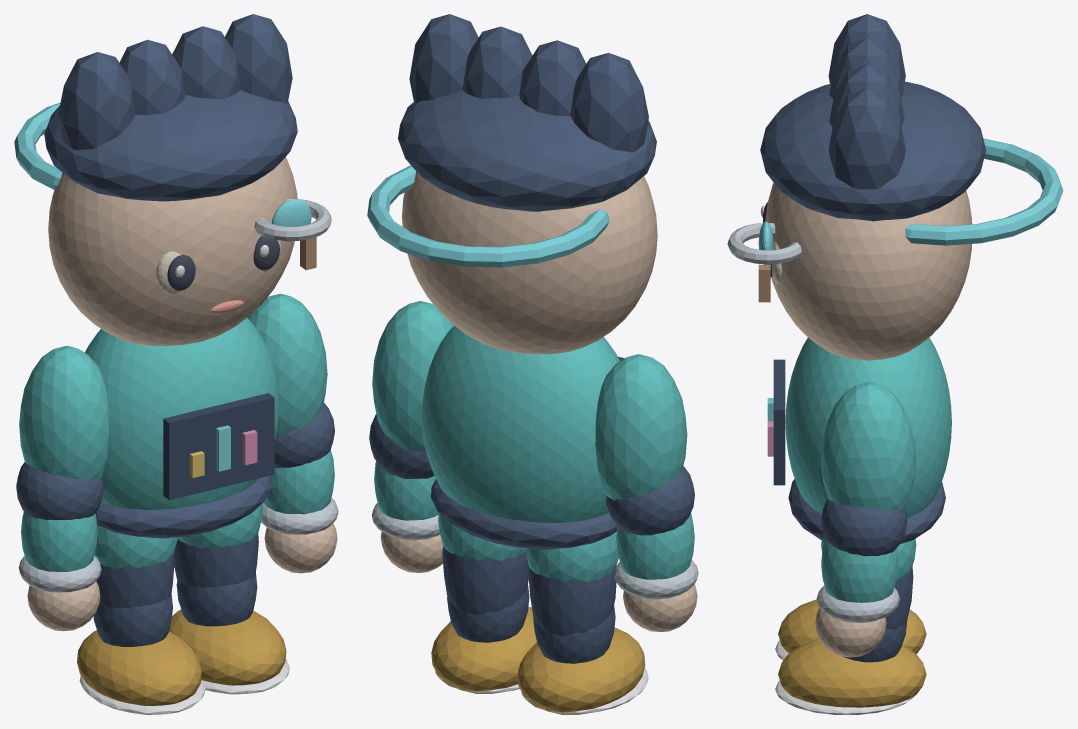
The model's file is avatar_ai_trend_scout_v3.glb.
3 renders of one model, left to right at view 1: azimuth 30°, elevation 25°; view 2: azimuth 150°, elevation 25°; view 3: azimuth 270°, elevation 25°, orthographic. The views are drawn at different scales.
Parts seen in each view (by area): view 1: head_face, body_core, hair_cap, L_sleeve_upper, field_tablet, L_shoe, R_sleeve_upper, R_shoe, hair_spike_0, waist_band, hair_spike_3, L_sleeve_lower (+26 smaller); view 2: body_core, head_face, hair_cap, L_sleeve_upper, R_sleeve_upper, radar_disk, L_shoe, hair_spike_0, R_shoe, waist_band, L_leg, hair_spike_3 (+16 smaller); view 3: head_face, hair_cap, body_core, R_sleeve_upper, R_shoe, hair_spike_3, radar_disk, R_elbow, R_sleeve_lower, R_hand, L_shoe, waist_band (+10 smaller).
Part boxes in pixels (x1=…): head_face: x1=48, y1=157, x2=297, y2=345; body_core: x1=85, y1=318, x2=278, y2=509; hair_cap: x1=44, y1=90, x2=297, y2=201; L_sleeve_upper: x1=19, y1=346, x2=108, y2=479; field_tablet: x1=163, y1=393, x2=274, y2=500; L_shoe: x1=77, y1=630, x2=201, y2=705; R_sleeve_upper: x1=247, y1=293, x2=327, y2=435; R_shoe: x1=169, y1=609, x2=286, y2=685; hair_spike_0: x1=58, y1=52, x2=134, y2=150; waist_band: x1=95, y1=476, x2=271, y2=538; hair_spike_3: x1=225, y1=14, x2=292, y2=103; L_sleeve_lower: x1=21, y1=511, x2=97, y2=571; body_core: x1=421, y1=325, x2=619, y2=549; head_face: x1=402, y1=171, x2=657, y2=354; hair_cap: x1=398, y1=90, x2=656, y2=211; L_sleeve_upper: x1=595, y1=354, x2=687, y2=500; R_sleeve_upper: x1=372, y1=301, x2=453, y2=451; radar_disk: x1=367, y1=165, x2=609, y2=267; L_shoe: x1=517, y1=627, x2=645, y2=714; hair_spike_0: x1=570, y1=52, x2=648, y2=152; R_shoe: x1=431, y1=606, x2=536, y2=693; waist_band: x1=431, y1=479, x2=617, y2=549; L_leg: x1=528, y1=565, x2=616, y2=635; hair_spike_3: x1=409, y1=14, x2=478, y2=103; head_face: x1=765, y1=183, x2=972, y2=360; hair_cap: x1=760, y1=81, x2=985, y2=221; body_core: x1=785, y1=337, x2=951, y2=518; R_sleeve_upper: x1=821, y1=382, x2=916, y2=509; R_shoe: x1=778, y1=639, x2=926, y2=707; hair_spike_3: x1=828, y1=88, x2=905, y2=189; radar_disk: x1=905, y1=138, x2=1063, y2=245; R_elbow: x1=821, y1=498, x2=907, y2=556; R_sleeve_lower: x1=821, y1=539, x2=898, y2=602; R_hand: x1=815, y1=607, x2=886, y2=657; L_shoe: x1=778, y1=599, x2=926, y2=653; waist_band: x1=788, y1=479, x2=945, y2=543.
Bounding box in the file's own units: 1.17 × 2.36 × 1.13.
